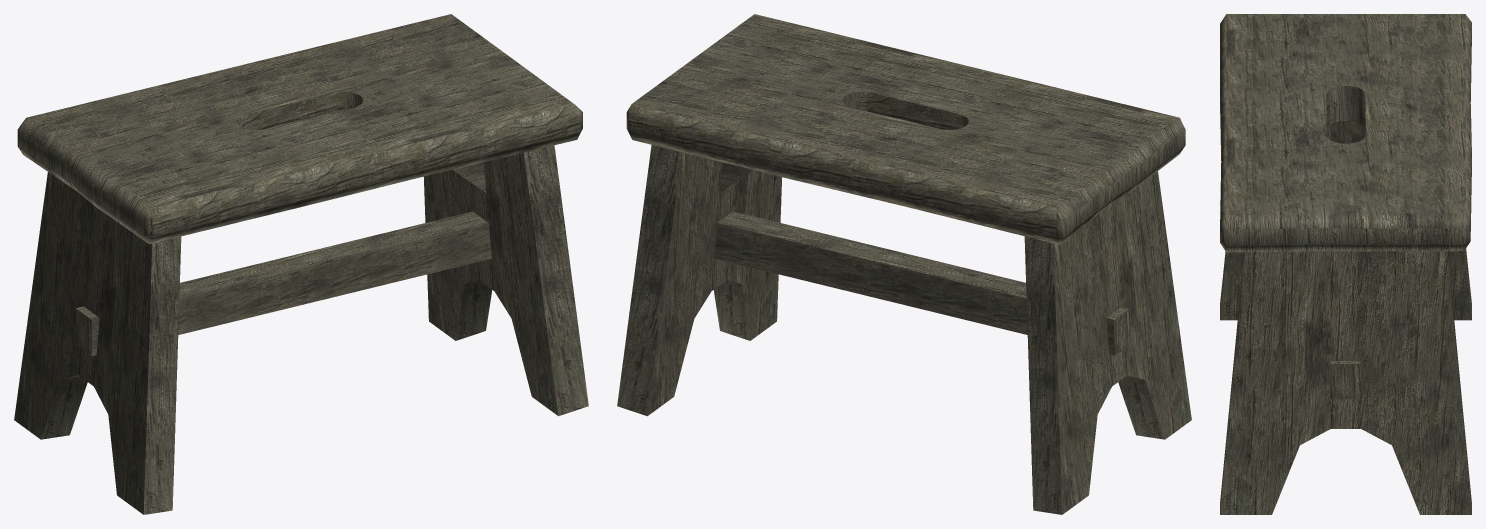
The model's file is workbench.fbx.
3 renders of one model, left to right at view 1: azimuth 30°, elevation 25°; view 2: azimuth 150°, elevation 25°; view 3: azimuth 270°, elevation 25°, orthographic. The views are drawn at different scales.
Visible parts, largest first — view 1: MBS-Seat_356.Shape; view 2: MBS-Seat_356.Shape; view 3: MBS-Seat_356.Shape.
Boxes of the visible parts, x1,y1,x2,y2 form: MBS-Seat_356.Shape: (14, 14, 588, 514); MBS-Seat_356.Shape: (617, 14, 1191, 514); MBS-Seat_356.Shape: (1220, 14, 1471, 514).
Bounding box in the file's own units: 48.98 × 32.1 × 24.7.
1 material, 1 textured.
